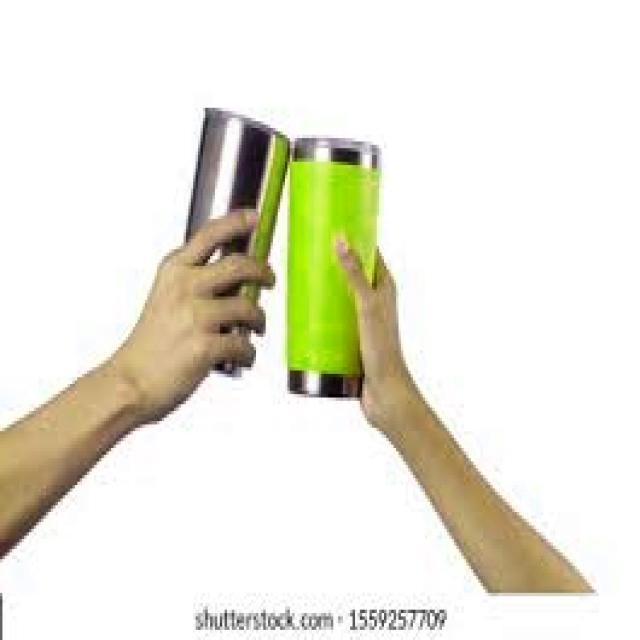bottle: (184, 106, 288, 378), (287, 138, 384, 397)
